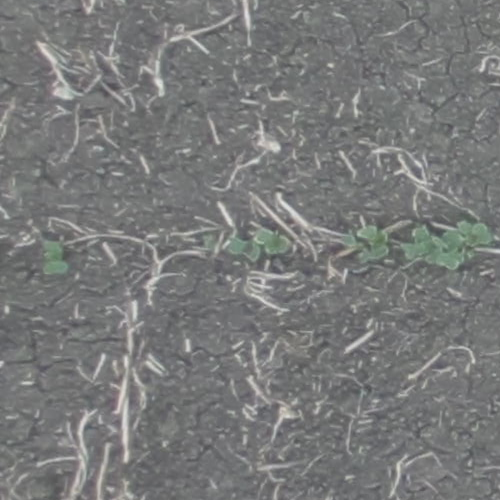clumped: (430, 218, 486, 265), (338, 224, 390, 263), (229, 228, 288, 261)
isolated: (39, 237, 66, 277), (398, 224, 426, 257)
